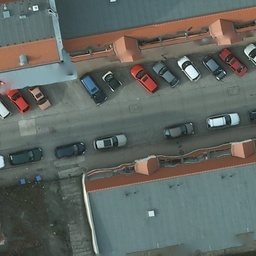car: (77, 75, 108, 104), (129, 65, 159, 93), (93, 131, 128, 153), (154, 60, 180, 89), (220, 49, 246, 77), (176, 56, 201, 84), (163, 121, 198, 141), (206, 111, 241, 130), (9, 147, 42, 167), (29, 85, 52, 113), (203, 55, 225, 82), (53, 141, 87, 158), (7, 89, 29, 114), (101, 71, 123, 93), (0, 92, 15, 119), (0, 153, 4, 174)
